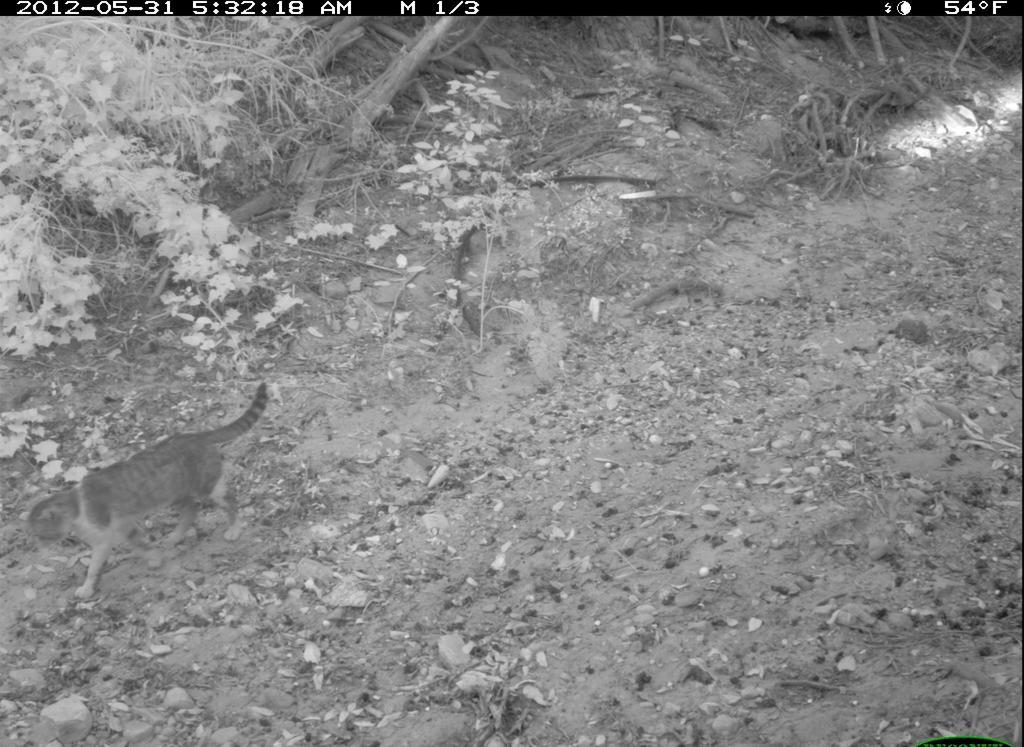cat: (13, 364, 295, 614)
